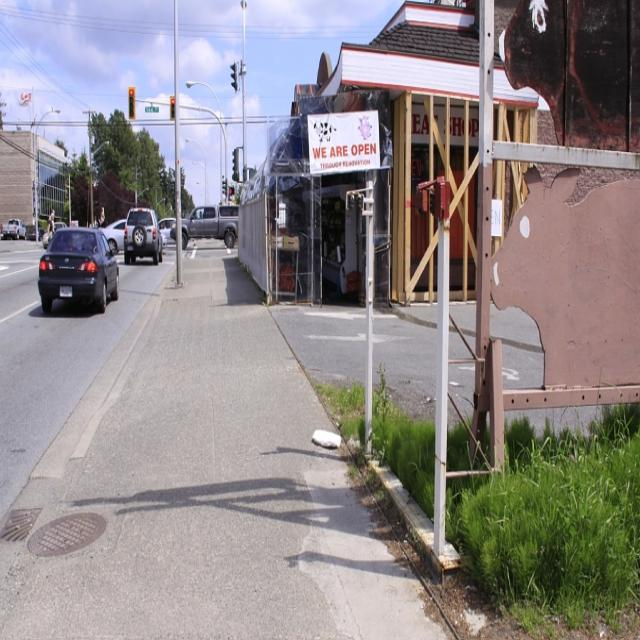car: (33, 211, 110, 310), (123, 204, 161, 263), (2, 215, 28, 239)
